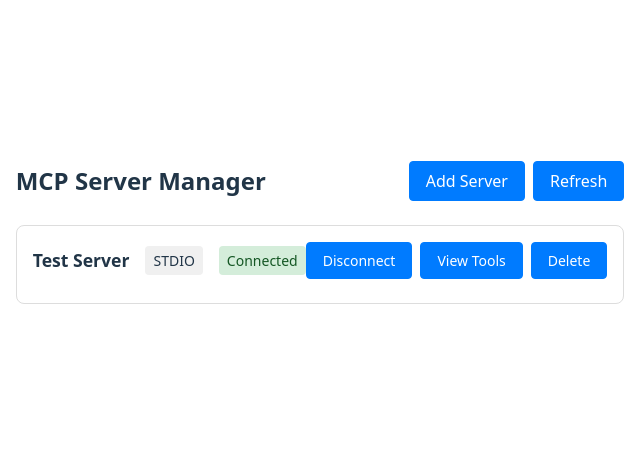
Test: MCPServerManager › ツール一覧を表示できること
Expected: the heading "Test Server" is shown, [33,247,130,273]
What coordinates should you click on to do the following:
click the button "View Tools"
I would click on:
 (472, 260)
Its box is [420,242,523,278].
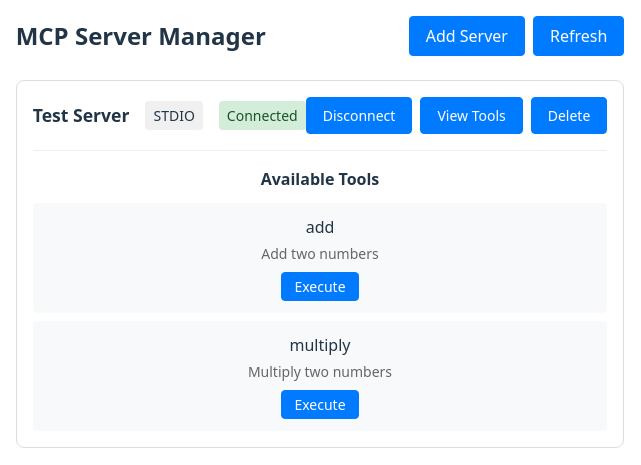
Now the text "add" is shown, box [306,216,334,238]
Now the text "multiply" is shown, box [290,334,350,356]
